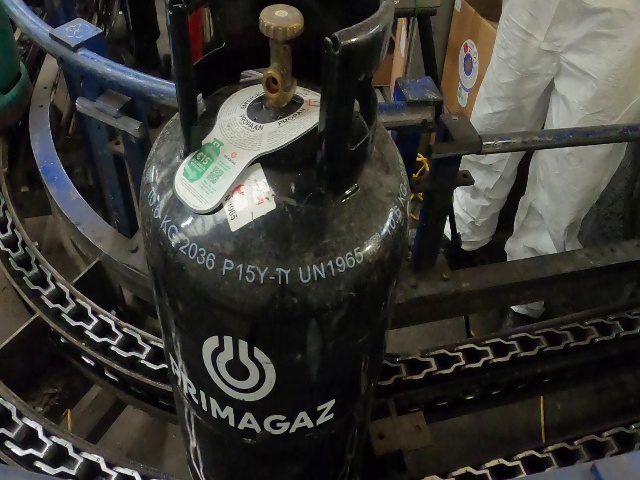gas_bottle: (36, 3, 614, 480)
